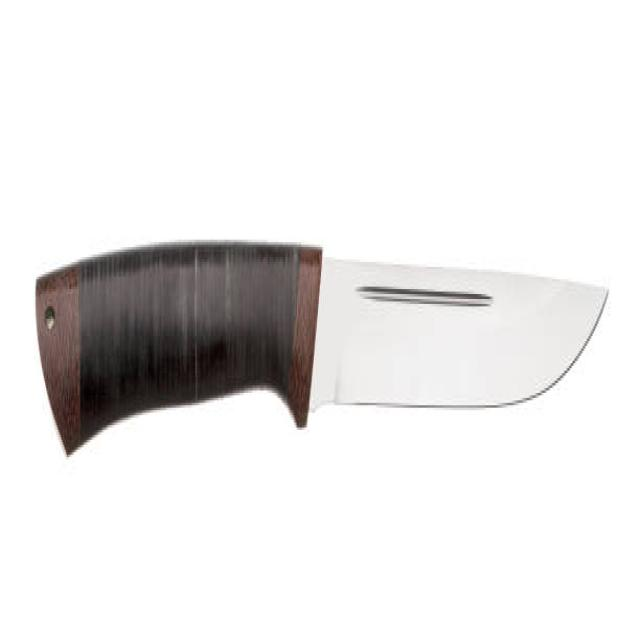knife: (26, 226, 619, 484)
